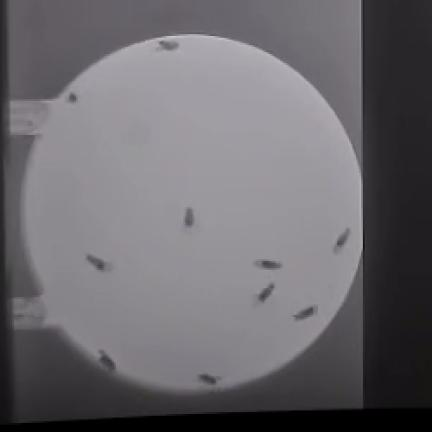fly: (87, 254, 112, 271), (334, 229, 350, 253), (99, 350, 115, 372), (256, 283, 274, 302), (294, 306, 317, 320), (255, 260, 281, 269), (184, 207, 195, 228), (199, 375, 221, 385), (159, 40, 179, 50), (68, 92, 77, 102)
